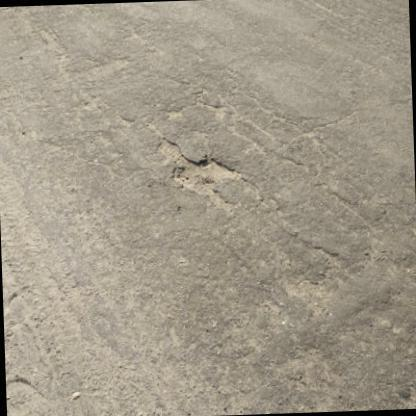pothole: (156, 135, 246, 206), (273, 268, 337, 318)
